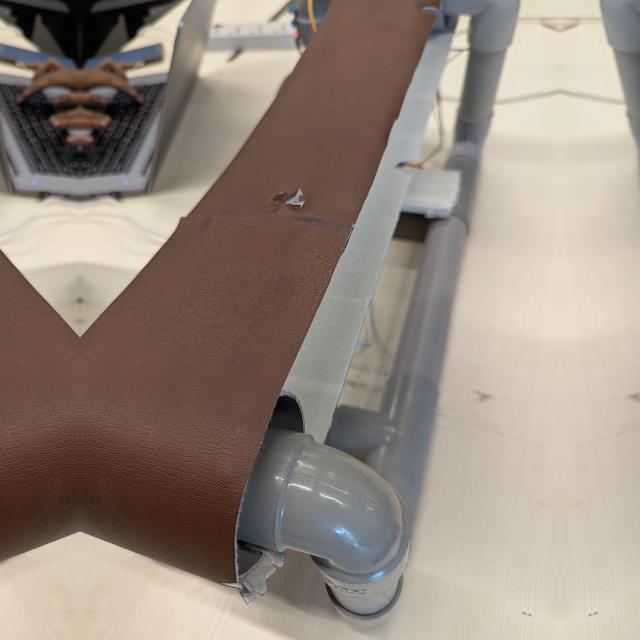joint_damage: (269, 171, 309, 223)
